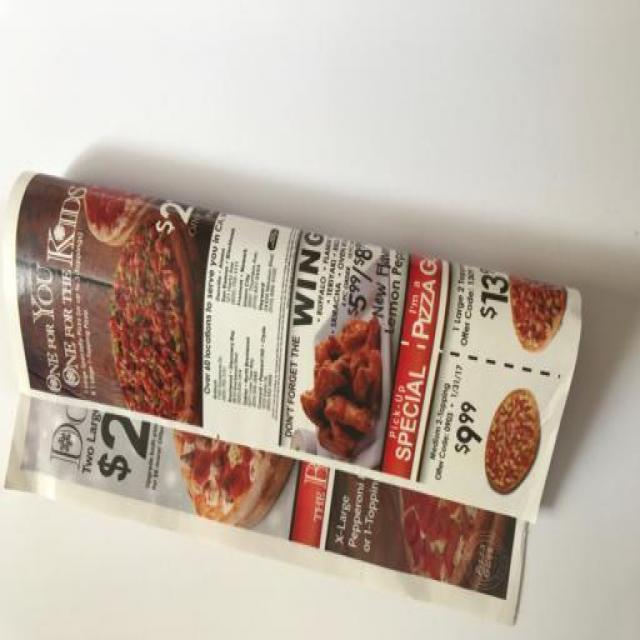paper: (4, 163, 580, 624)
